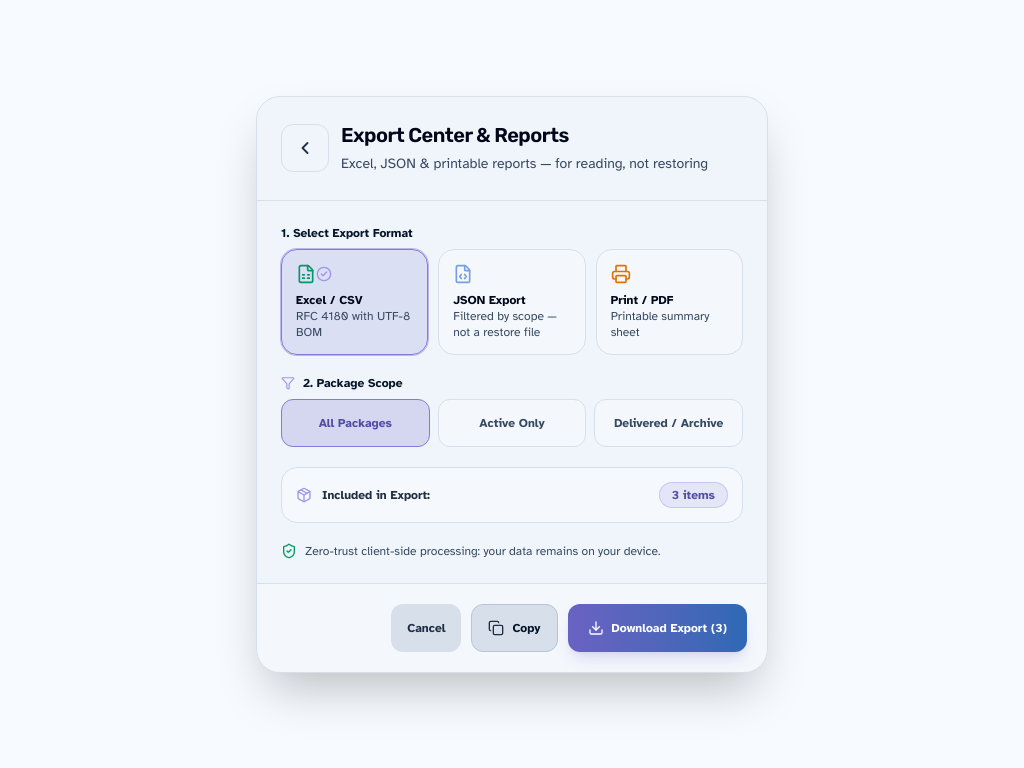
ExportModal DOM Integration & User Interactions › filters package counts dynamically when scope changes
Click the radio button labelled "Active Only".
click(512, 422)  # box [438,398,586,446]
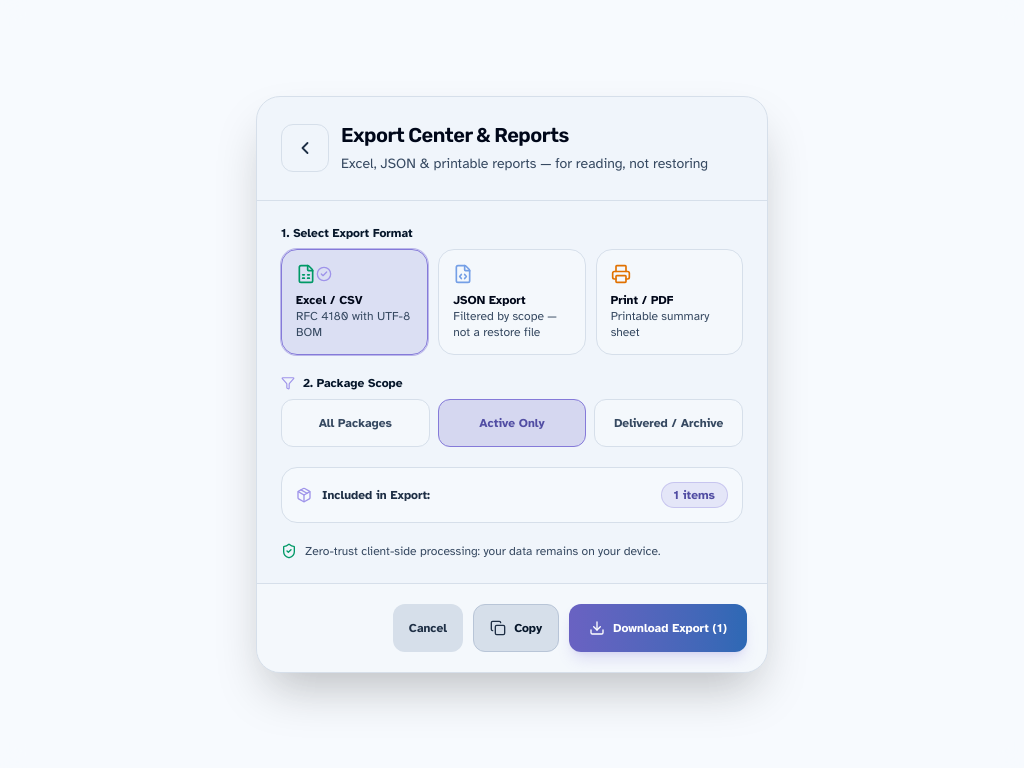
Expected: the text "1 items" is shown, [661,481,728,507]
Click the radio button labelled "Delivered / Archive".
click(669, 422)  # box [594,398,743,446]
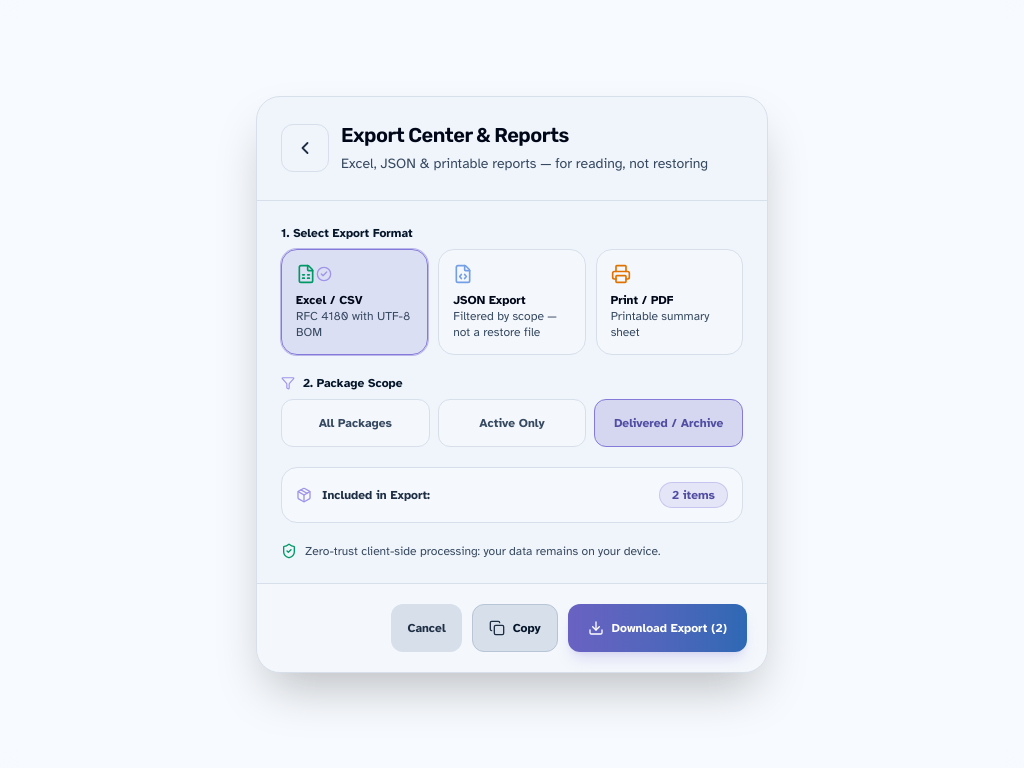
Expected: the text "2 items" is shown, [659,481,728,507]
